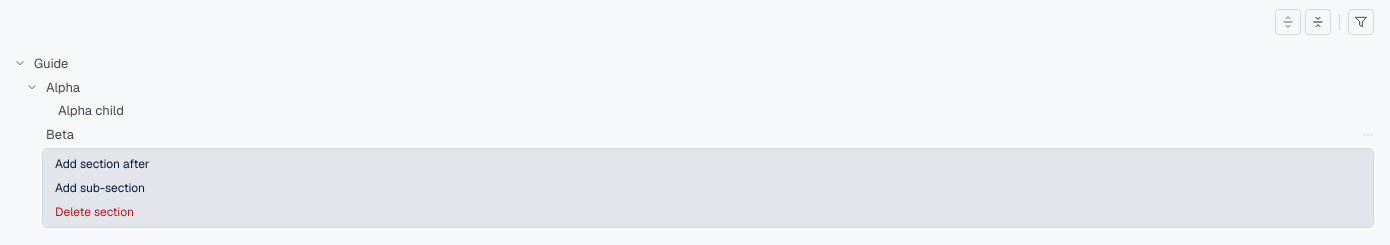
Test: 章节结构菜单：动作与提示 › 末节的删除报数到文档末行（Beta：3 行、无子节）
Earlier steps of the test are not shown.
Step 1. Click the button "Delete section" → (94, 212), box [47, 201, 1369, 223]
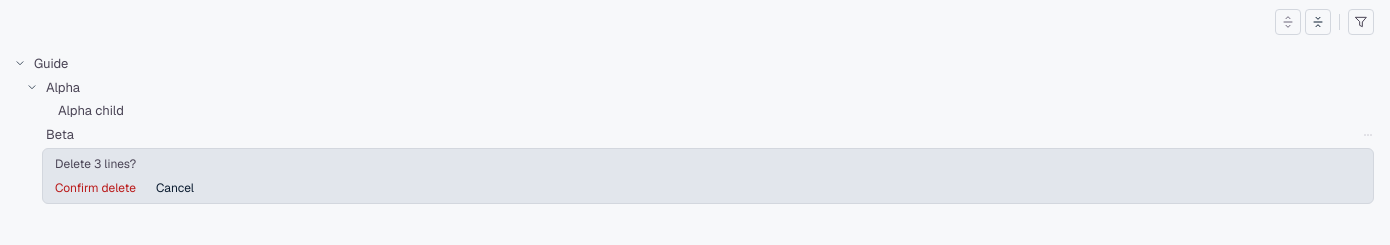
Now the text "Delete 3 lines?" is shown, box [55, 156, 136, 172]
